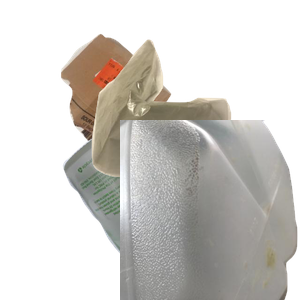cardboard: (58, 31, 222, 188)
glass: (60, 120, 300, 300)
plastic: (120, 120, 300, 300)
trash: (89, 37, 300, 213)
